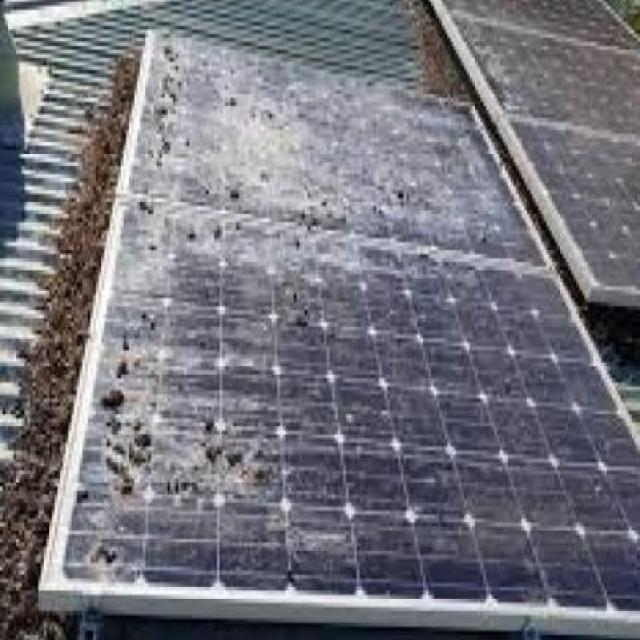faulty: (75, 213, 599, 640), (132, 59, 544, 272)
